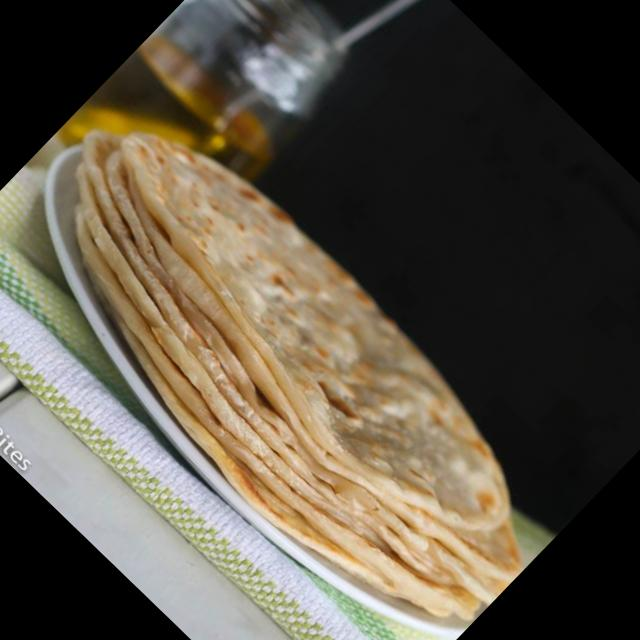roti: (67, 138, 524, 623)
